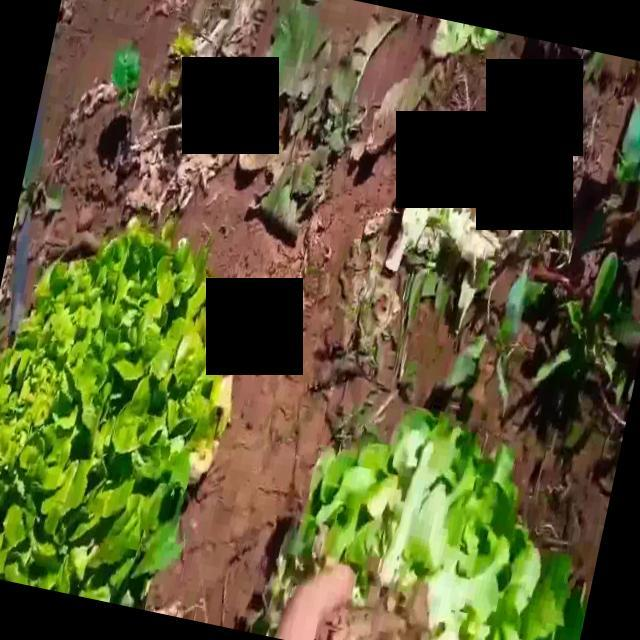Lettuce: (0, 222, 235, 604), (267, 417, 590, 640)
